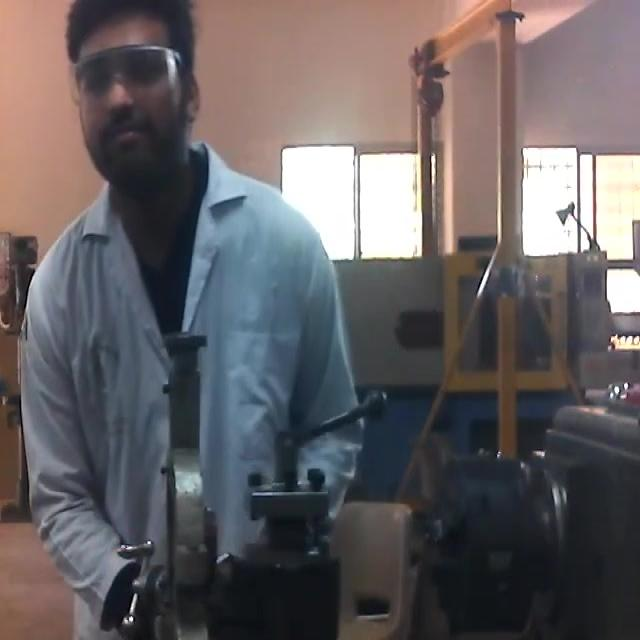googles: (68, 38, 182, 117)
labcoat: (15, 134, 366, 640)
